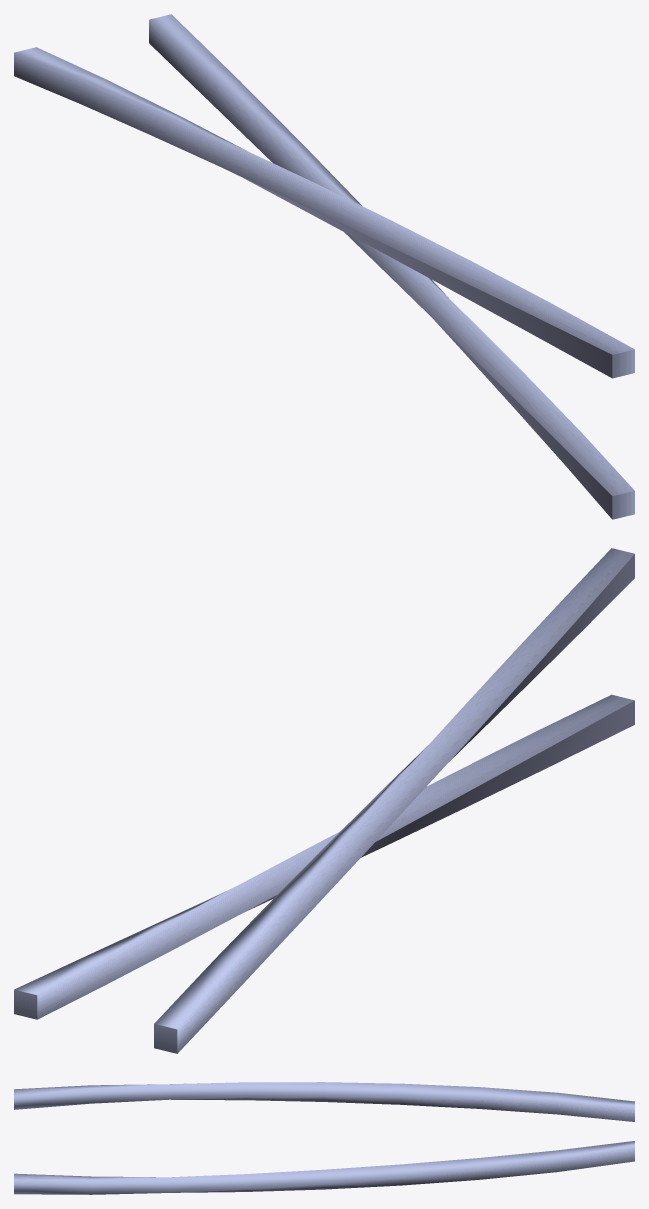
The model's file is railroad-rail-straight-skew-left-side.glb.
3 views of the same model, one above another, from view 1: azimuth 30°, elevation 25°; view 2: azimuth 150°, elevation 25°; view 3: azimuth 270°, elevation 25° (orthographic). The views are drawn at different scales.
Parts seen in each view (by area): view 1: railroad-rail-straight-skew-left-side; view 2: railroad-rail-straight-skew-left-side; view 3: railroad-rail-straight-skew-left-side.
Boxes of the visible parts, <box> form: railroad-rail-straight-skew-left-side: <box>14,14,634,519</box>; railroad-rail-straight-skew-left-side: <box>14,548,634,1053</box>; railroad-rail-straight-skew-left-side: <box>14,1082,634,1194</box>.
Size of the model in its own units: 0.7134 by 0.7134 by 4.
1 material, 1 textured.
